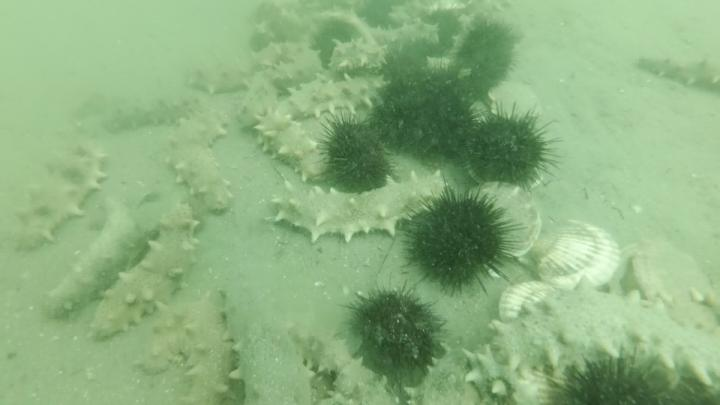echinus: (398, 180, 528, 298), (342, 272, 448, 379), (372, 76, 485, 165), (464, 100, 561, 197), (533, 347, 673, 405), (316, 113, 399, 192), (455, 21, 520, 88), (312, 20, 360, 65), (424, 10, 463, 43), (354, 1, 394, 30)
holothurian: (490, 275, 720, 385), (85, 201, 205, 344), (267, 169, 450, 250), (43, 195, 147, 324), (217, 278, 318, 405), (132, 290, 240, 405), (11, 139, 110, 256), (285, 322, 396, 405), (163, 108, 241, 218), (255, 107, 329, 186), (462, 342, 552, 405), (186, 41, 284, 97), (288, 70, 389, 119), (103, 91, 205, 136), (406, 342, 476, 405), (636, 50, 720, 98), (232, 73, 284, 134), (265, 48, 324, 93), (327, 37, 390, 76), (369, 20, 442, 47), (446, 14, 477, 59), (390, 1, 430, 28)
scallop: (529, 217, 623, 290), (609, 239, 714, 301), (469, 182, 543, 260), (467, 160, 547, 192), (498, 282, 553, 326), (489, 82, 546, 124)
